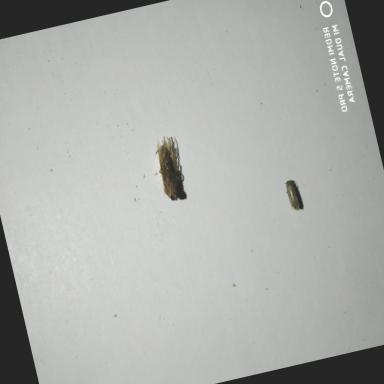pbw: (280, 174, 308, 216)
